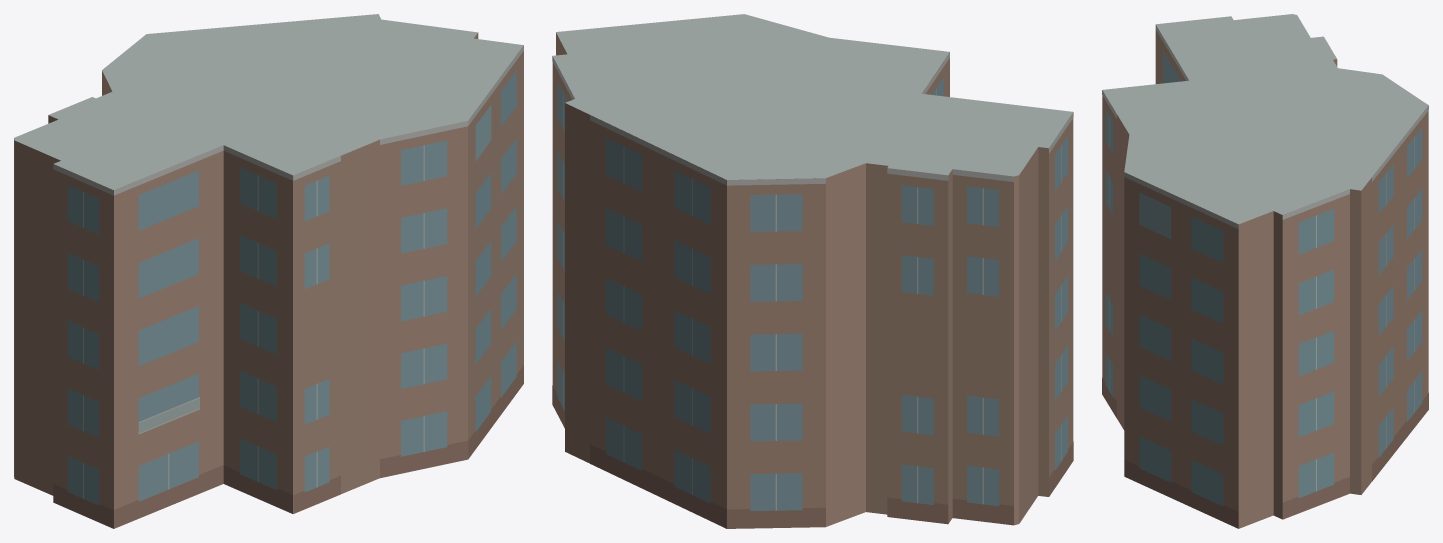
File: survey-upis-32959841.glb
3 renders of one model, left to right at view 1: azimuth 30°, elevation 25°; view 2: azimuth 150°, elevation 25°; view 3: azimuth 270°, elevation 25°, orthographic. The views are drawn at different scales.
Visible parts, largest first — view 1: survey-upis-32959841.tmp; view 2: survey-upis-32959841.tmp; view 3: survey-upis-32959841.tmp.
Part boxes in pixels (x1,y1,x2,y2): survey-upis-32959841.tmp: (14, 14, 523, 528); survey-upis-32959841.tmp: (552, 14, 1073, 528); survey-upis-32959841.tmp: (1102, 14, 1428, 528).
Size of the model in its own units: 22.61 by 15.25 by 14.84.
